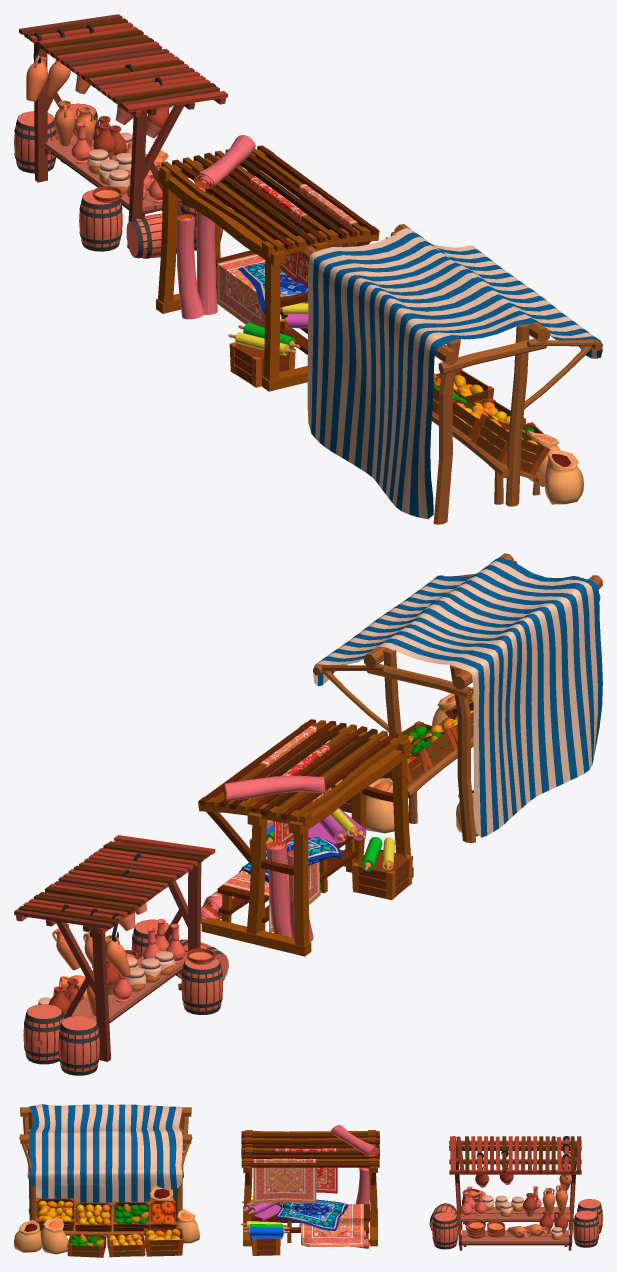
The model's file is shop.fbx.
3 renders of one model, top to bottom at view 1: azimuth 30°, elevation 25°; view 2: azimuth 150°, elevation 25°; view 3: azimuth 270°, elevation 25°, orthographic. The views are drawn at different scales.
Visible parts, largest first — view 1: Cube.057_Medieval_0, Cube.067_Medieval_0, Cylinder.054_Medieval_0; view 2: Cube.057_Medieval_0, Cube.067_Medieval_0, Cylinder.054_Medieval_0; view 3: Cube.057_Medieval_0, Cube.067_Medieval_0, Cylinder.054_Medieval_0.
Boxes of the visible parts, box(x1,y1,x2,y2) form: Cube.057_Medieval_0: box(302, 224, 602, 524); Cube.067_Medieval_0: box(156, 135, 379, 391); Cylinder.054_Medieval_0: box(14, 14, 228, 258); Cube.057_Medieval_0: box(313, 553, 602, 843); Cube.067_Medieval_0: box(198, 719, 413, 956); Cylinder.054_Medieval_0: box(14, 835, 228, 1075); Cube.057_Medieval_0: box(14, 1104, 199, 1257); Cube.067_Medieval_0: box(240, 1125, 379, 1255); Cylinder.054_Medieval_0: box(429, 1136, 602, 1250).
Size of what is drawn, in the model's own units: 182 by 179 by 863.
Materials: 1 (1 with a texture image).
